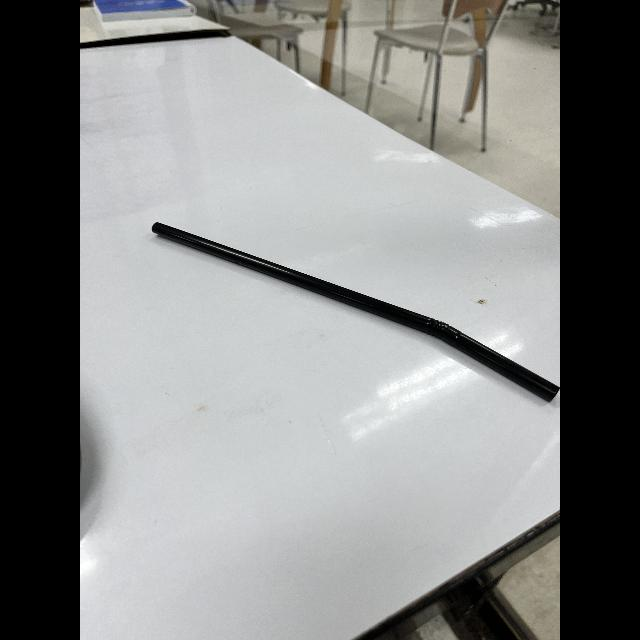straw: (148, 218, 558, 408)
